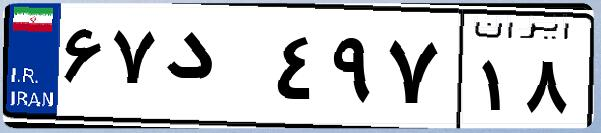1: (475, 38, 525, 113)
4: (270, 28, 330, 110)
6: (57, 26, 110, 100)
7: (385, 28, 445, 110), (110, 28, 158, 98)
8: (525, 38, 570, 115)
9: (330, 28, 385, 110)
د: (158, 20, 270, 120)
